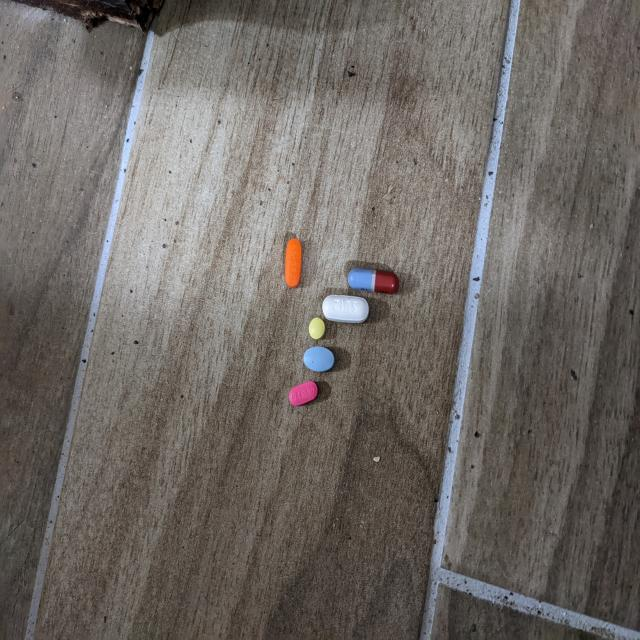non-organic waste: (347, 267, 400, 295), (322, 294, 369, 325), (302, 345, 335, 373), (284, 238, 302, 289), (288, 381, 318, 407), (308, 317, 326, 341)
